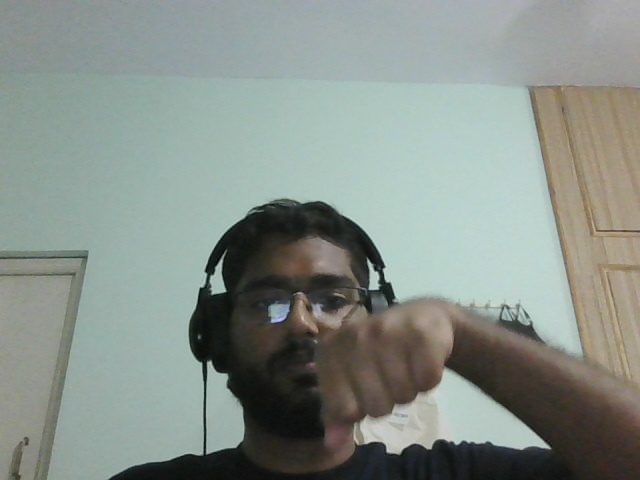Yes: (293, 287, 470, 449)
